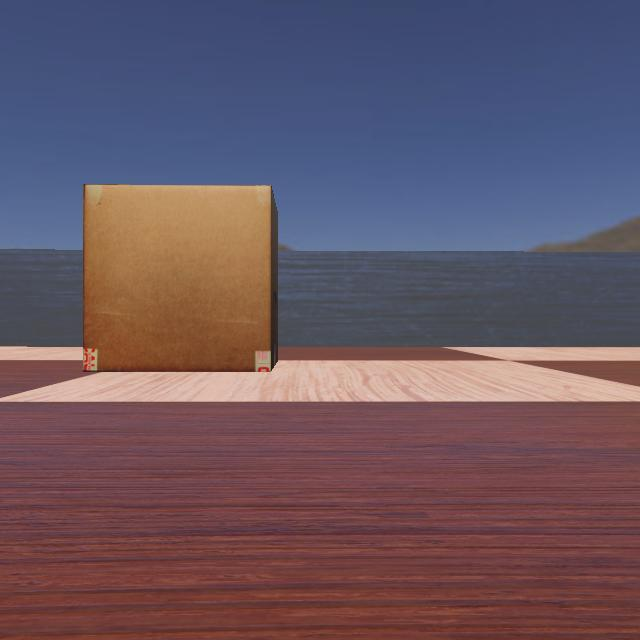cardboard-box: (78, 183, 280, 371)
